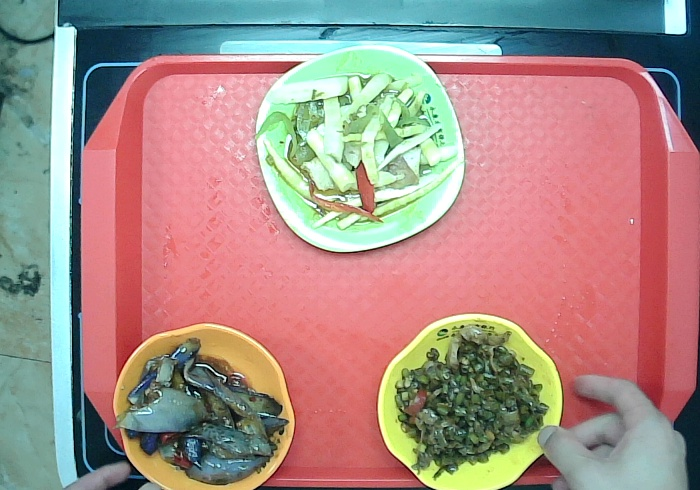YKMZ-Huang_Se_Ao_Bian_Wan: (375, 313, 566, 490)
YKMZ-Ju_Se_Ao_Bian_Wan: (110, 321, 298, 490)
YKMZ-Lv_Se_Fang_Die: (254, 41, 466, 255)
